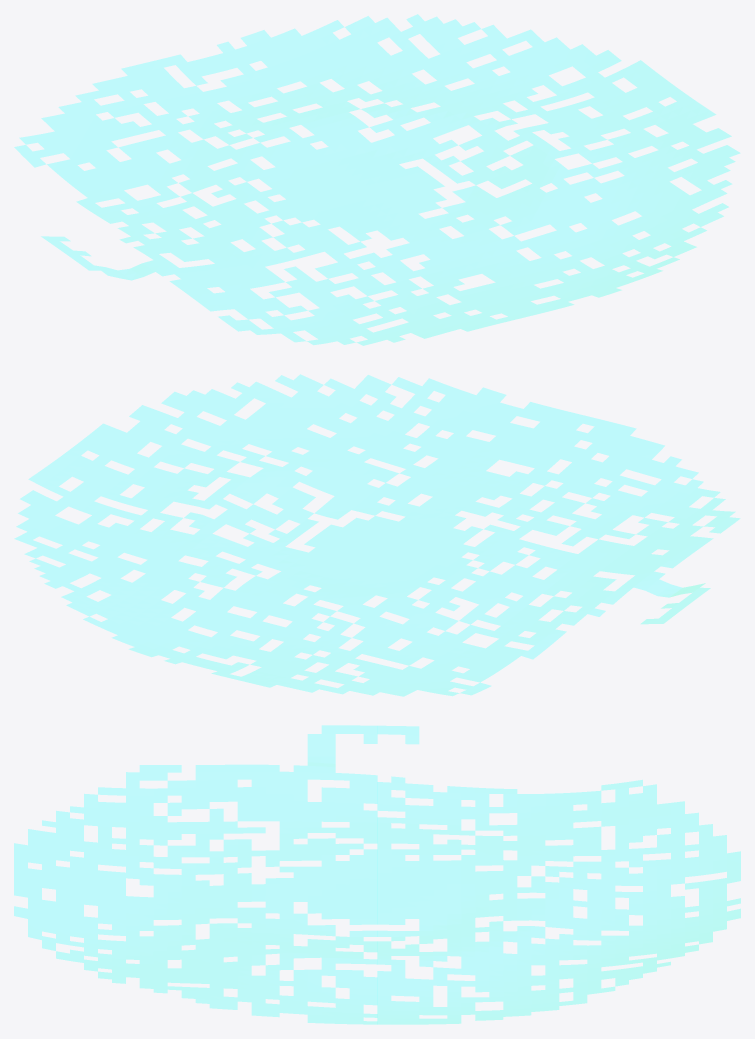
The model's file is navmesh_stage_1.glb.
The picture shows the model from 3 angles, top to bottom: view 1: azimuth 30°, elevation 25°; view 2: azimuth 150°, elevation 25°; view 3: azimuth 270°, elevation 25°; orthographic projection. The views are drawn at different scales.
Visible parts, largest first — view 1: navmesh_stage_1; view 2: navmesh_stage_1; view 3: navmesh_stage_1.
Part boxes in pixels (x1,y1,x2,y2): navmesh_stage_1: (14, 14, 739, 345); navmesh_stage_1: (14, 374, 739, 696); navmesh_stage_1: (14, 725, 740, 1024).
Size of the model in its own units: 91 by 4.93 by 91.
